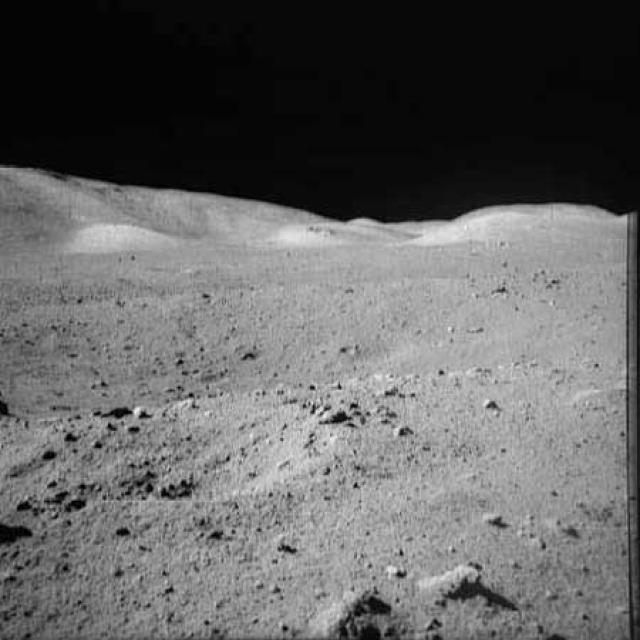crater: (1, 278, 532, 414), (64, 418, 328, 508)
rock: (291, 578, 407, 639), (413, 558, 500, 602)
